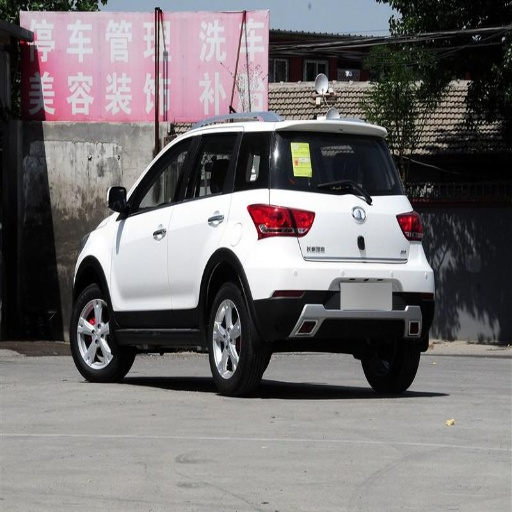back_bumper: (243, 222, 434, 341)
back_glass: (242, 132, 399, 192)
back_left_door: (171, 135, 226, 321)
trunk: (290, 195, 407, 263)
